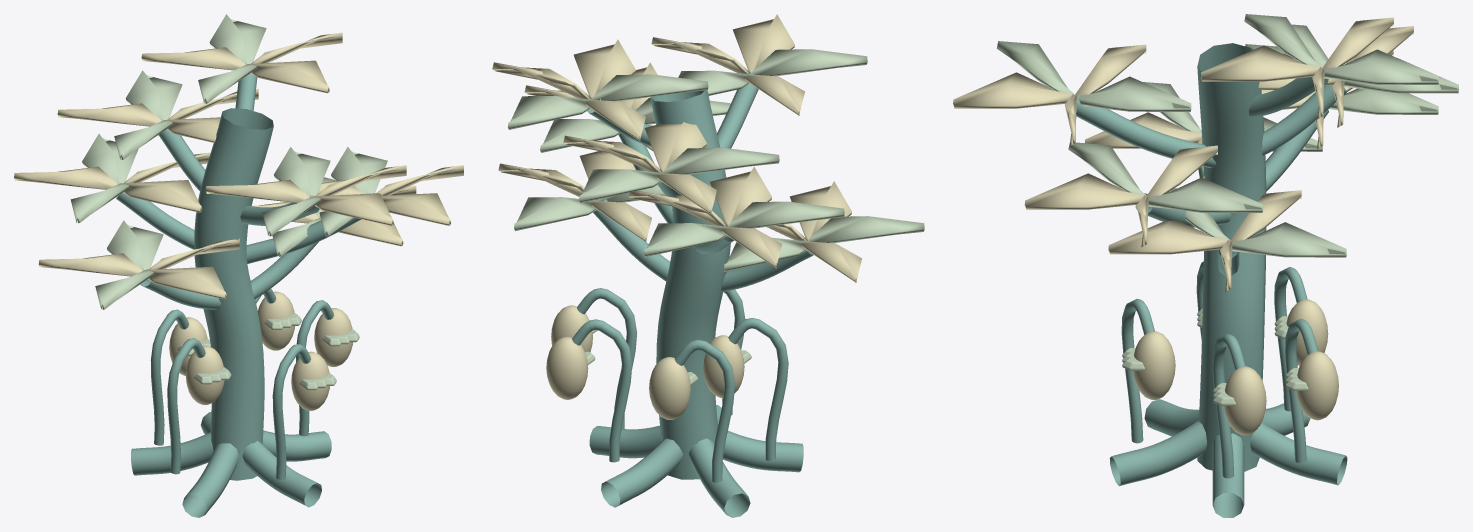
File: bio_canopy_tree_08_near.glb
3 renders of one model, left to right at view 1: azimuth 30°, elevation 25°; view 2: azimuth 150°, elevation 25°; view 3: azimuth 270°, elevation 25°, orthographic. The views are drawn at different scales.
Parts seen in each view (by area): view 1: Buttressed trunk, Broad canopy leaf.015, Broad canopy leaf.010, Broad canopy leaf.020, Broad canopy leaf.005, Broad canopy leaf.030, Broad canopy leaf.031, Broad canopy leaf.016, Broad canopy leaf.011, Broad canopy leaf.021, Broad canopy leaf.025, Broad canopy leaf.006 (+12 smaller); view 2: Buttressed trunk, Broad canopy leaf.010, Broad canopy leaf.015, Broad canopy leaf.005, Broad canopy leaf.030, Broad canopy leaf.006, Broad canopy leaf.031, Broad canopy leaf.016, Broad canopy leaf.021, Broad canopy leaf.011, Broad canopy leaf, Broad canopy leaf.020 (+11 smaller); view 3: Buttressed trunk, Broad canopy leaf.015, Broad canopy leaf.025, Broad canopy leaf.010, Broad canopy leaf, Broad canopy leaf.016, Broad canopy leaf.026, Broad canopy leaf.011, Broad canopy leaf.001, Pendant spore capsule.003, Pendant spore capsule.002, Pendant spore capsule (+10 smaller).
Boxes of the visible parts, <box> form: Buttressed trunk: <box>116,73,361,517</box>; Broad canopy leaf.015: <box>141,32,342,93</box>; Broad canopy leaf.010: <box>205,165,406,225</box>; Broad canopy leaf.020: <box>38,238,239,299</box>; Broad canopy leaf.005: <box>14,152,210,212</box>; Broad canopy leaf.030: <box>57,88,258,142</box>; Broad canopy leaf.031: <box>114,70,182,159</box>; Broad canopy leaf.016: <box>198,14,266,103</box>; Broad canopy leaf.011: <box>262,147,330,236</box>; Broad canopy leaf.021: <box>95,220,163,309</box>; Broad canopy leaf.025: <box>317,165,463,225</box>; Broad canopy leaf.006: <box>70,134,138,223</box>; Buttressed trunk: <box>587,73,813,517</box>; Broad canopy leaf.010: <box>651,14,804,115</box>; Broad canopy leaf.015: <box>492,39,645,141</box>; Broad canopy leaf.005: <box>628,166,781,268</box>; Broad canopy leaf.030: <box>563,122,716,214</box>; Broad canopy leaf.006: <box>644,201,844,257</box>; Broad canopy leaf.031: <box>579,147,779,203</box>; Broad canopy leaf.016: <box>508,74,708,129</box>; Broad canopy leaf.021: <box>724,216,924,271</box>; Broad canopy leaf.011: <box>678,49,867,95</box>; Broad canopy leaf: <box>498,151,651,242</box>; Broad canopy leaf.020: <box>767,181,861,282</box>; Buttressed trunk: <box>1076,43,1347,517</box>; Broad canopy leaf.015: <box>1200,17,1393,119</box>; Broad canopy leaf.025: <box>1024,145,1217,247</box>; Broad canopy leaf.010: <box>953,44,1146,146</box>; Broad canopy leaf: <box>1108,190,1301,291</box>; Broad canopy leaf.016: <box>1244,14,1438,84</box>; Broad canopy leaf.026: <box>1068,142,1262,212</box>; Broad canopy leaf.011: <box>996,41,1191,111</box>; Broad canopy leaf.001: <box>1167,188,1346,257</box>; Pendant spore capsule.003: <box>1296,351,1338,420</box>; Pendant spore capsule.002: <box>1133,331,1175,399</box>; Pendant spore capsule: <box>1224,366,1266,435</box>.
Bounding box in the file's own units: 2.97 × 2.99 × 3.05.
